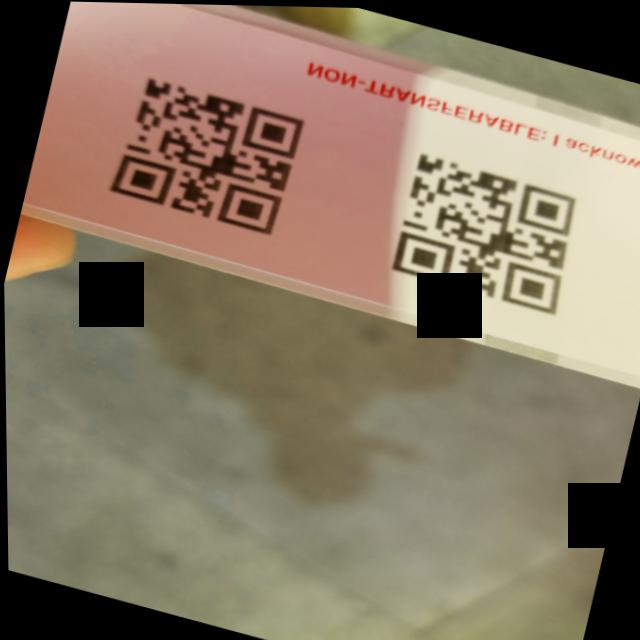QR_CODE: (356, 128, 605, 331), (98, 61, 336, 270)
